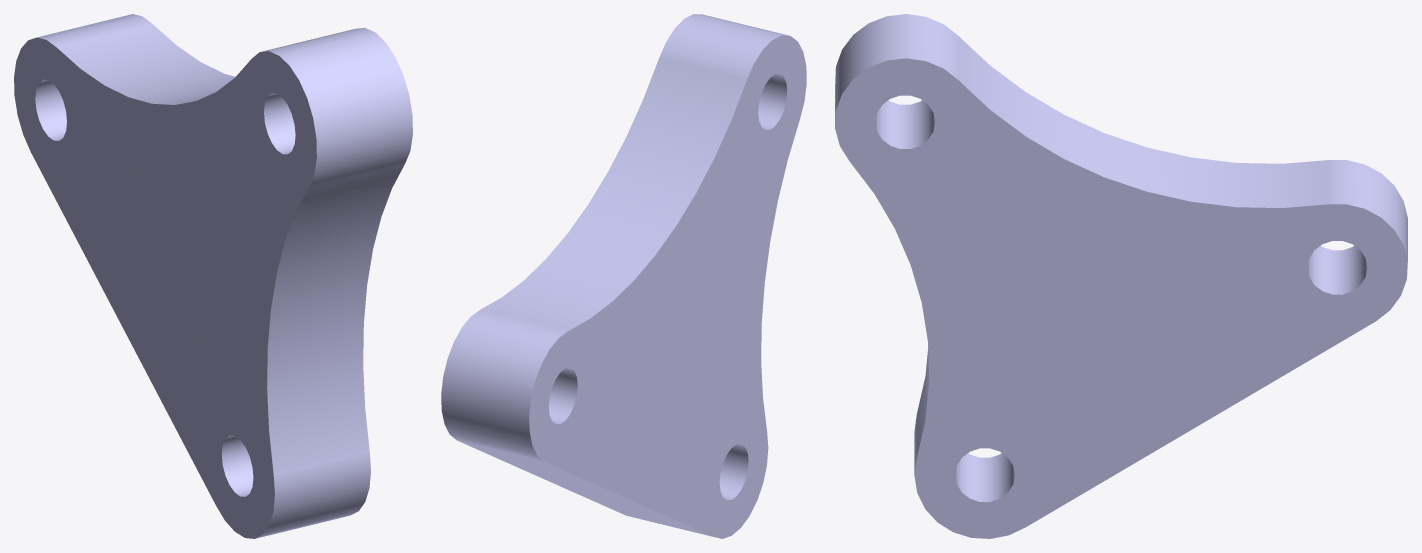
File: 3 Leva 10.fbx
3 renders of one model, left to right at view 1: azimuth 30°, elevation 25°; view 2: azimuth 150°, elevation 25°; view 3: azimuth 270°, elevation 25°, orthographic. The views are drawn at different scales.
Parts seen in each view (by area): view 1: PartBody; view 2: PartBody; view 3: PartBody.
Part boxes in pixels (box(x1,y1,x2,y2)): PartBody: box(14, 14, 412, 538); PartBody: box(441, 14, 806, 538); PartBody: box(835, 14, 1407, 538).
Size of the model in its own units: 0.7874 by 3.98 by 4.3.
